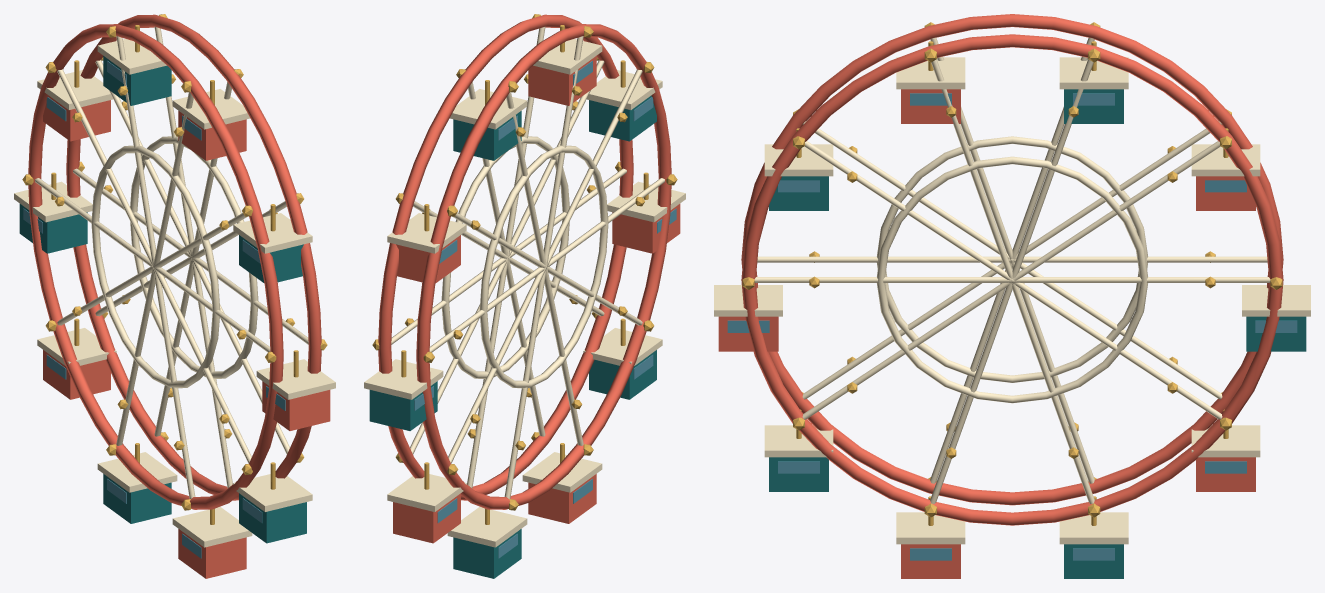
Rendered from ferris_rotor.glb.
3 views of the same model, side by side, from view 1: azimuth 30°, elevation 25°; view 2: azimuth 150°, elevation 25°; view 3: azimuth 270°, elevation 25° (orthographic). The views are drawn at different scales.
Visible parts, largest first — view 1: ferris_rotor, Cabin_8, Cabin_9, Cabin_0, Cabin_7, Cabin_4, Cabin_3, Cabin_5, Cabin_1, Cabin_6, Cabin_2; view 2: ferris_rotor, Cabin_7, Cabin_6, Cabin_5, Cabin_8, Cabin_1, Cabin_2, Cabin_0, Cabin_4, Cabin_9, Cabin_3; view 3: ferris_rotor, Cabin_7, Cabin_8, Cabin_6, Cabin_9, Cabin_2, Cabin_3, Cabin_0, Cabin_5, Cabin_1, Cabin_4.
Boxes of the visible parts, x1=… form: ferris_rotor: x1=22, y1=14, x2=327, y2=510; Cabin_8: x1=172, y1=507, x2=252, y2=578; Cabin_9: x1=233, y1=462, x2=312, y2=543; Cabin_0: x1=256, y1=350, x2=335, y2=430; Cabin_7: x1=97, y1=443, x2=177, y2=523; Cabin_4: x1=37, y1=60, x2=112, y2=141; Cabin_3: x1=97, y1=25, x2=171, y2=105; Cabin_5: x1=14, y1=172, x2=92, y2=253; Cabin_1: x1=233, y1=204, x2=312, y2=282; Cabin_6: x1=37, y1=318, x2=116, y2=399; Cabin_2: x1=172, y1=80, x2=249, y2=160; ferris_rotor: x1=372, y1=14, x2=677, y2=510; Cabin_7: x1=447, y1=507, x2=527, y2=578; Cabin_6: x1=387, y1=462, x2=466, y2=543; Cabin_5: x1=364, y1=350, x2=443, y2=430; Cabin_8: x1=522, y1=443, x2=602, y2=523; Cabin_1: x1=587, y1=60, x2=662, y2=141; Cabin_2: x1=528, y1=25, x2=602, y2=105; Cabin_0: x1=607, y1=172, x2=685, y2=253; Cabin_4: x1=387, y1=204, x2=466, y2=282; Cabin_9: x1=583, y1=318, x2=662, y2=399; Cabin_3: x1=450, y1=80, x2=527, y2=160; ferris_rotor: x1=741, y1=14, x2=1283, y2=525; Cabin_7: x1=1059, y1=496, x2=1128, y2=578; Cabin_8: x1=896, y1=496, x2=965, y2=578; Cabin_6: x1=1191, y1=409, x2=1260, y2=491; Cabin_9: x1=764, y1=409, x2=833, y2=491; Cabin_2: x1=896, y1=41, x2=965, y2=123; Cabin_3: x1=1059, y1=41, x2=1128, y2=123; Cabin_0: x1=714, y1=285, x2=782, y2=351; Cabin_5: x1=1242, y1=285, x2=1310, y2=351; Cabin_1: x1=764, y1=128, x2=833, y2=210; Cabin_4: x1=1191, y1=128, x2=1260, y2=210.
Size of the model in its own units: 1.24 by 10.01 by 9.95.
